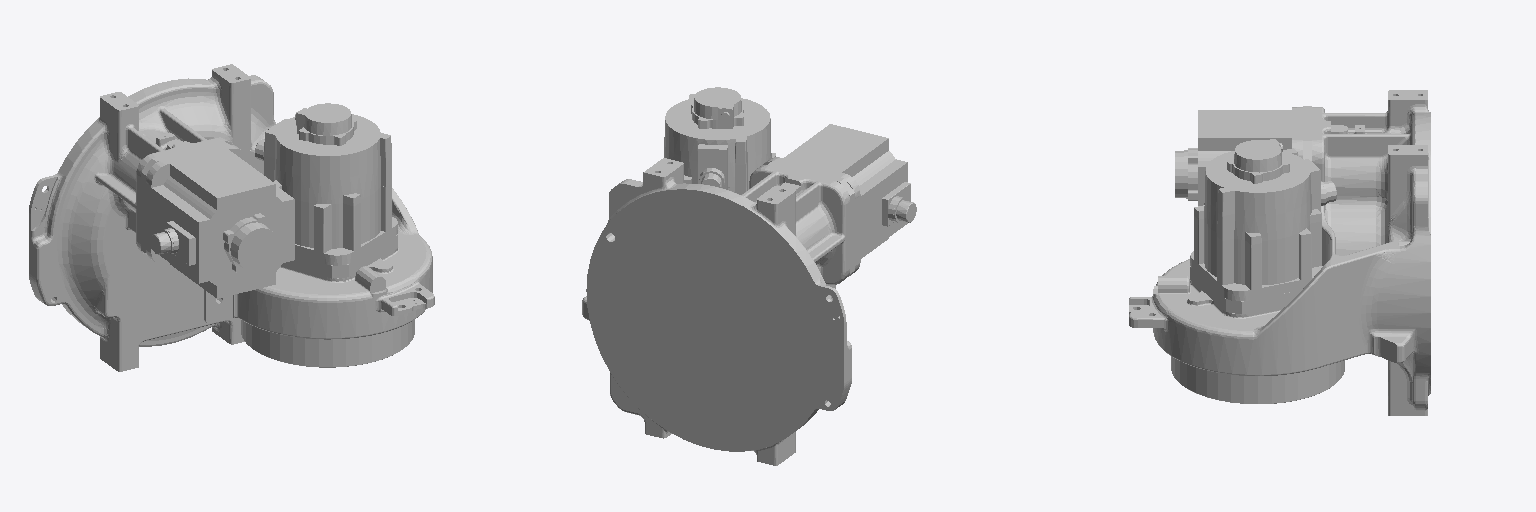
Rendered from shoulder.obj.
The picture shows the model from 3 angles: view 1: azimuth 30°, elevation 25°; view 2: azimuth 150°, elevation 25°; view 3: azimuth 270°, elevation 25°; orthographic projection.
Size of the model in its own units: 569 by 486 by 491.